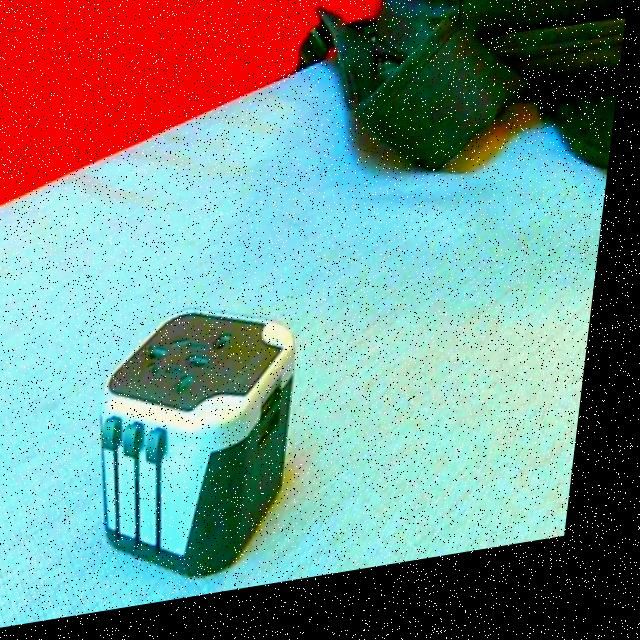adapter: (91, 301, 314, 601)
